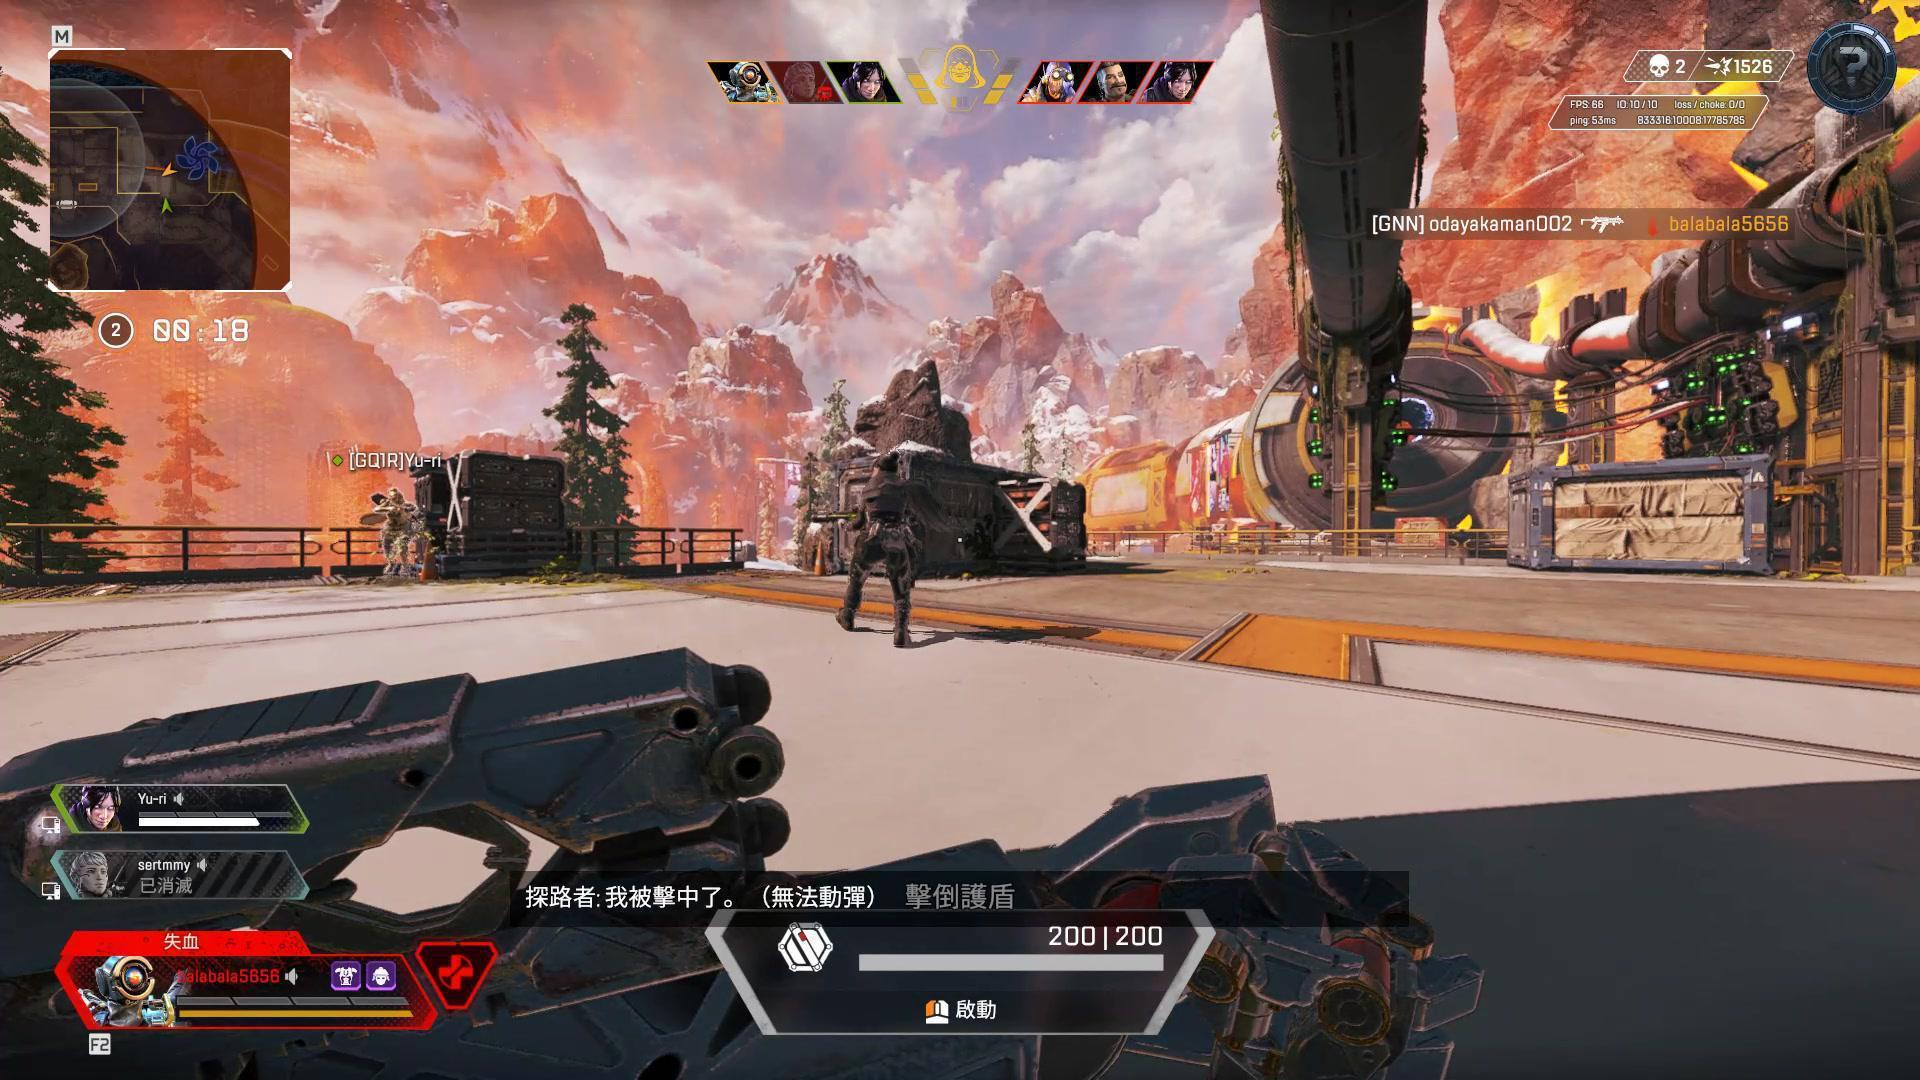avatar: (832, 451, 929, 651), (369, 489, 420, 580)
